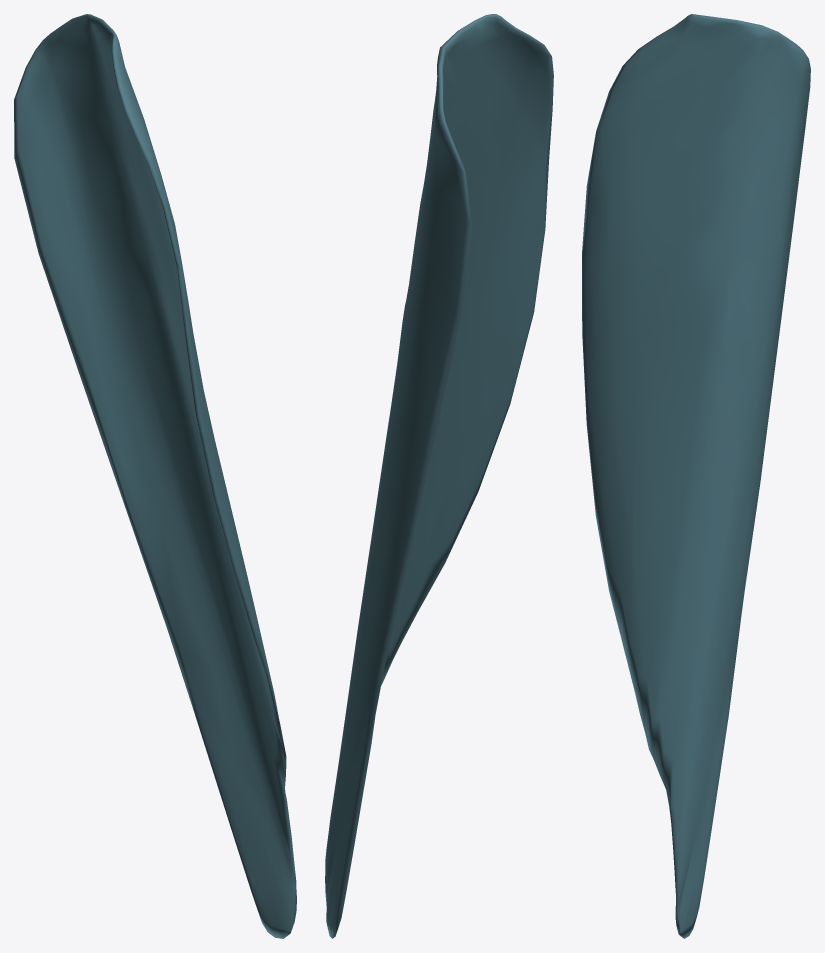
The model's file is Supinator-Radial_insertion.l_Generated_Mesh_From_X3D.604.glb.
3 renders of one model, left to right at view 1: azimuth 30°, elevation 25°; view 2: azimuth 150°, elevation 25°; view 3: azimuth 270°, elevation 25°, orthographic. The views are drawn at different scales.
Parts seen in each view (by area): view 1: Supinator-Radial_insertion.l_Generated_Mesh_From_X3D.604; view 2: Supinator-Radial_insertion.l_Generated_Mesh_From_X3D.604; view 3: Supinator-Radial_insertion.l_Generated_Mesh_From_X3D.604.
Boxes of the visible parts, box(x1,y1,x2,y2) form: Supinator-Radial_insertion.l_Generated_Mesh_From_X3D.604: box(14, 14, 296, 938); Supinator-Radial_insertion.l_Generated_Mesh_From_X3D.604: box(325, 14, 553, 938); Supinator-Radial_insertion.l_Generated_Mesh_From_X3D.604: box(582, 14, 810, 938).
Size of the model in its own units: 0.0192 by 0.0809 by 0.0197.
